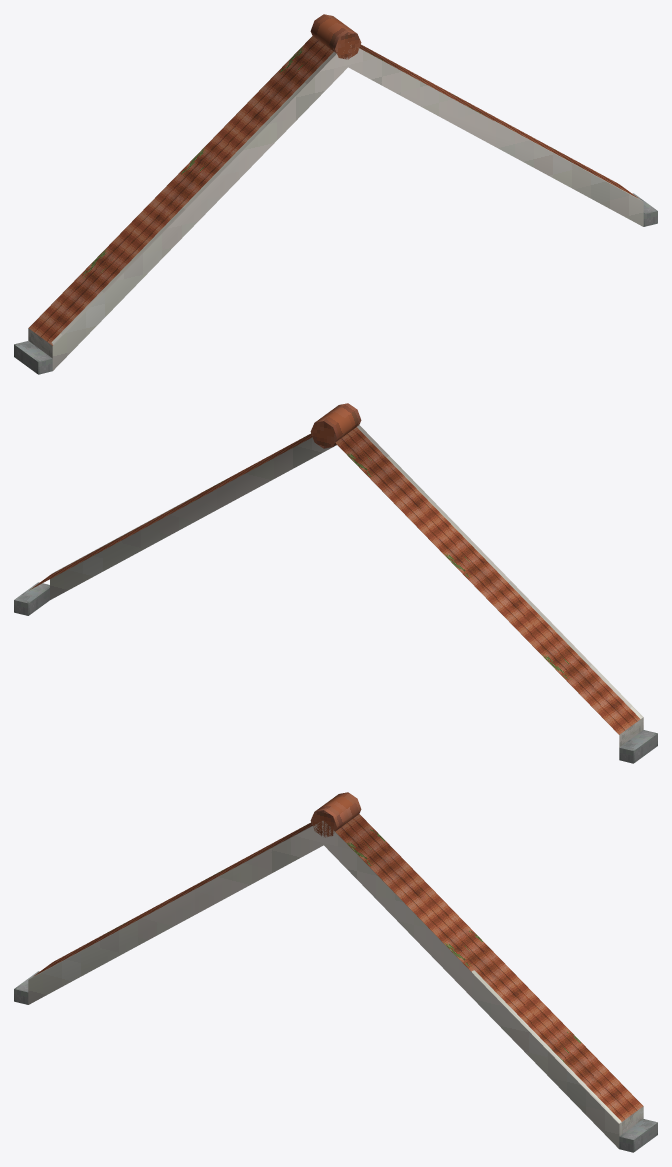
File: roof_clay_verge.glb
3 views of the same model, one above another, from view 1: azimuth 30°, elevation 25°; view 2: azimuth 150°, elevation 25°; view 3: azimuth 330°, elevation 25° (orthographic).
Parts seen in each view (by area): view 1: roof_clay_verge; view 2: roof_clay_verge; view 3: roof_clay_verge.
Boxes of the visible parts, x1=… form: roof_clay_verge: x1=14, y1=14, x2=657, y2=374; roof_clay_verge: x1=14, y1=403, x2=657, y2=763; roof_clay_verge: x1=14, y1=792, x2=657, y2=1152.
Size of the model in its own units: 5.14 by 2.12 by 0.35.
Materials: 1 (1 with a texture image).
